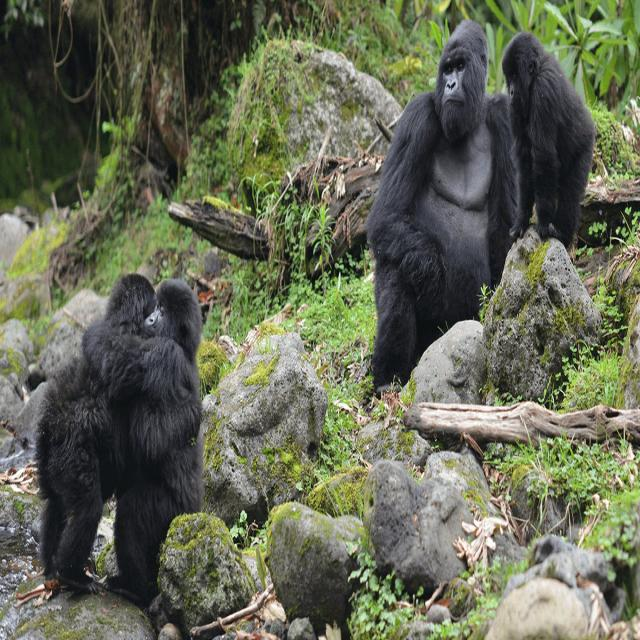Gorilla: (368, 14, 518, 387), (120, 273, 202, 603)
